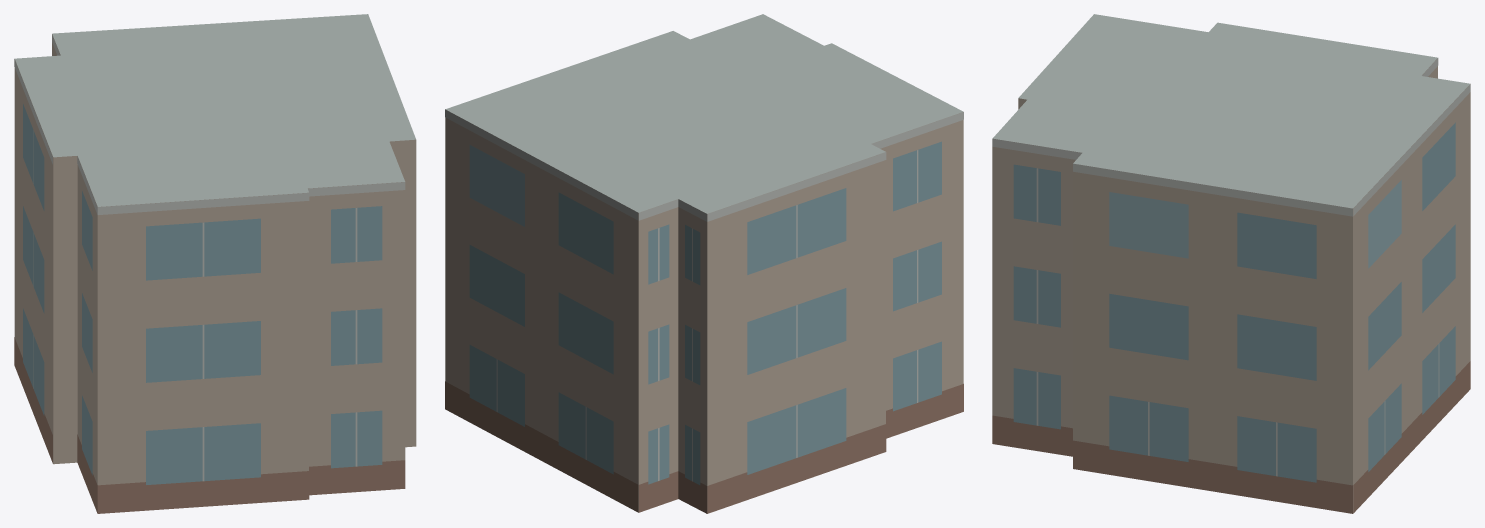
Rendered from survey-upis-32818070.glb.
The picture shows the model from 3 angles, left to right: view 1: azimuth 30°, elevation 25°; view 2: azimuth 150°, elevation 25°; view 3: azimuth 270°, elevation 25°; orthographic projection. The views are drawn at different scales.
Parts seen in each view (by area): view 1: survey-upis-32818070.tmp; view 2: survey-upis-32818070.tmp; view 3: survey-upis-32818070.tmp.
Boxes of the visible parts, x1,y1,x2,y2 form: survey-upis-32818070.tmp: (14, 14, 416, 513); survey-upis-32818070.tmp: (445, 14, 963, 513); survey-upis-32818070.tmp: (992, 14, 1470, 513).
Size of the model in its own units: 12.51 by 9.15 by 13.
